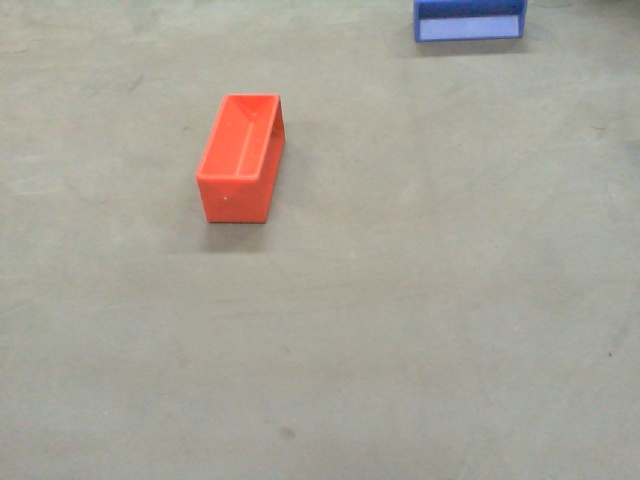BlueSample: (409, 1, 530, 45)
RedSample: (194, 93, 288, 229)
